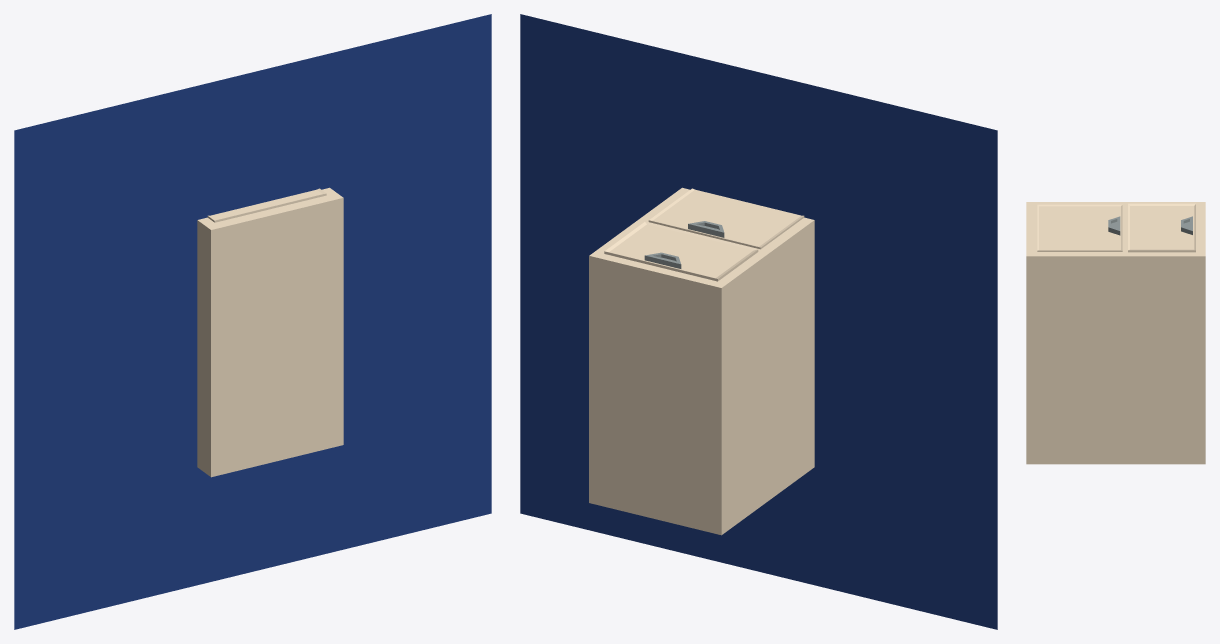
The model's file is WorkingRoom_SmalCabinet.fbx.
The picture shows the model from 3 angles, left to right: view 1: azimuth 30°, elevation 25°; view 2: azimuth 150°, elevation 25°; view 3: azimuth 270°, elevation 25°; orthographic projection. The views are drawn at different scales.
Visible parts, largest first — view 1: Plane.004, guizi.001; view 2: Plane.004, guizi.001; view 3: guizi.001.
Boxes of the visible parts, box(x1,y1,x2,y2) form: Plane.004: box(14, 14, 491, 629); guizi.001: box(197, 187, 343, 477); Plane.004: box(520, 14, 997, 629); guizi.001: box(589, 187, 814, 535); guizi.001: box(1026, 202, 1205, 464).
Size of the model in its own units: 2 by 2 by 0.775.
